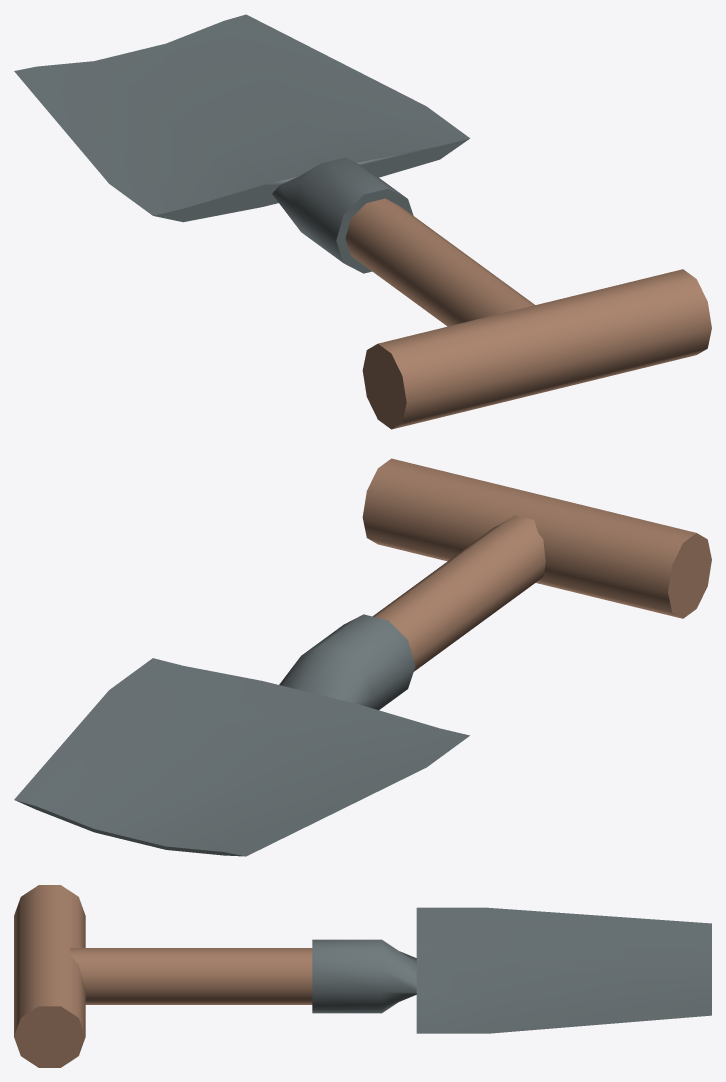
File: shovel_basic.glb
3 renders of one model, top to bottom at view 1: azimuth 30°, elevation 25°; view 2: azimuth 150°, elevation 25°; view 3: azimuth 270°, elevation 25°, orthographic. The views are drawn at different scales.
Parts seen in each view (by area): view 1: 1.068, 0.111; view 2: 1.068, 0.111; view 3: 1.068, 0.111.
Boxes of the visible parts, x1,y1,x2,y2 form: 1.068: (14, 14, 469, 273); 0.111: (345, 198, 711, 429); 1.068: (14, 614, 469, 856); 0.111: (362, 458, 711, 671); 1.068: (312, 907, 711, 1033); 0.111: (14, 885, 312, 1067).
Bounding box in the file's own units: 0.1664 × 0.0396 × 0.3896.
